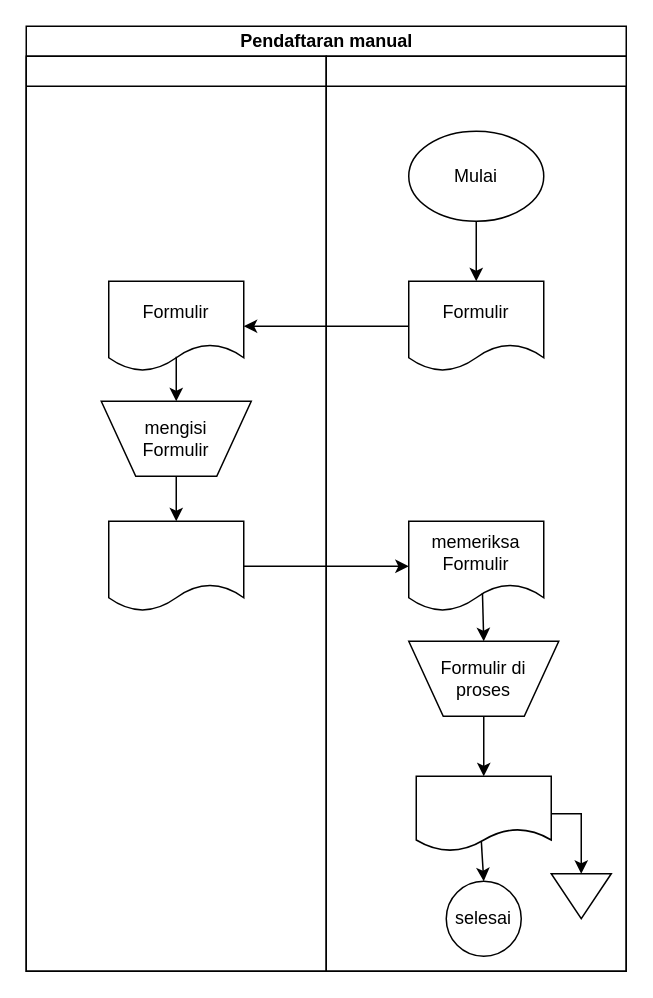
The diagram is 653 pixels wide and 998 high, and some of its shapes have lost their labels. Each missing label, with the box of its shape:
Formulir sudah di isi: (107, 520, 244, 611)
Formulir yg telah di proses: (415, 775, 551, 851)
Peserta: (25, 55, 326, 971)
Petugas: (325, 55, 626, 971)
